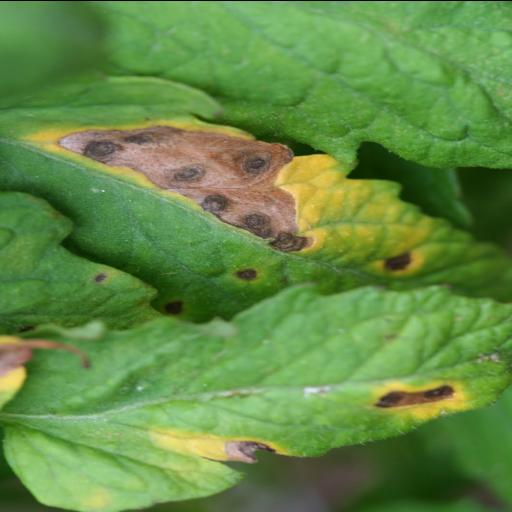disease_tomato: (9, 271, 512, 512), (4, 72, 490, 286)
